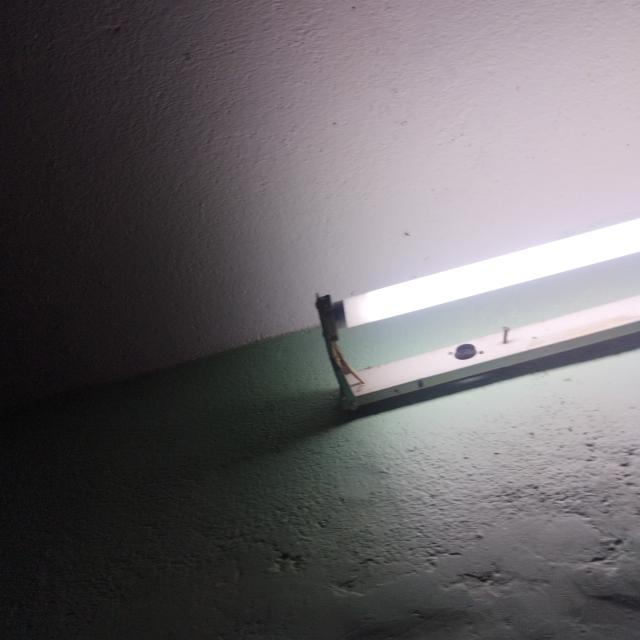tubelight_on: (311, 203, 640, 420)
